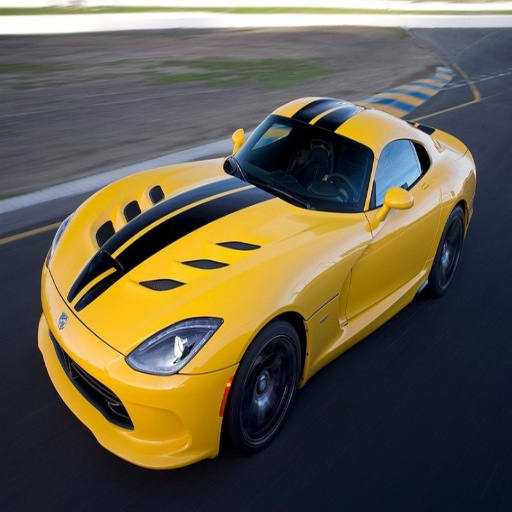back_glass: (300, 101, 356, 130)
front_bumper: (70, 348, 236, 469)
front_glass: (232, 116, 372, 212), (108, 212, 196, 266)
front_left_door: (315, 171, 418, 355)
